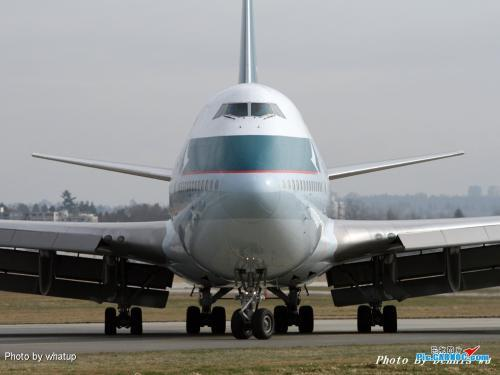airplane: (2, 1, 494, 337)
